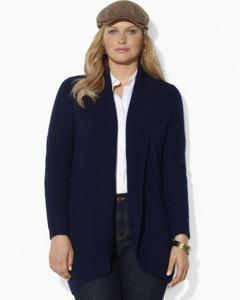S_cardigan sweater: (39, 73, 196, 294)
